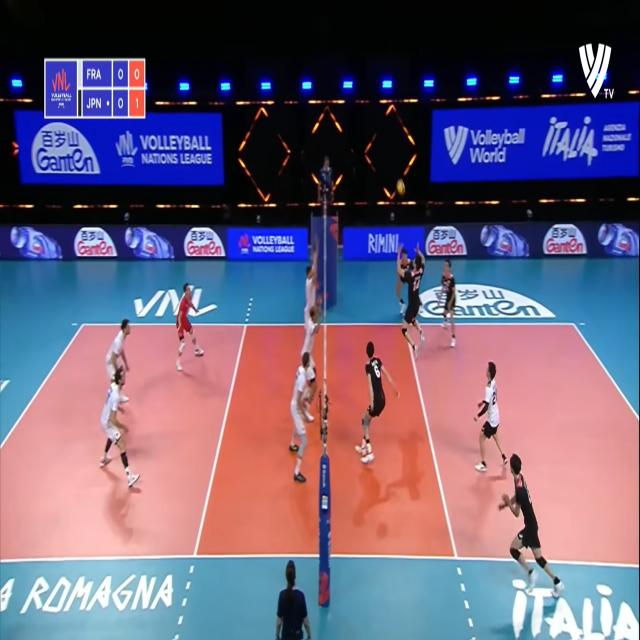player: (509, 451, 564, 597), (357, 337, 399, 468), (104, 368, 142, 503), (396, 244, 429, 358), (476, 357, 503, 476), (176, 279, 206, 373), (292, 350, 311, 488), (105, 318, 138, 394), (441, 257, 459, 355), (305, 307, 322, 404), (304, 254, 322, 337)
